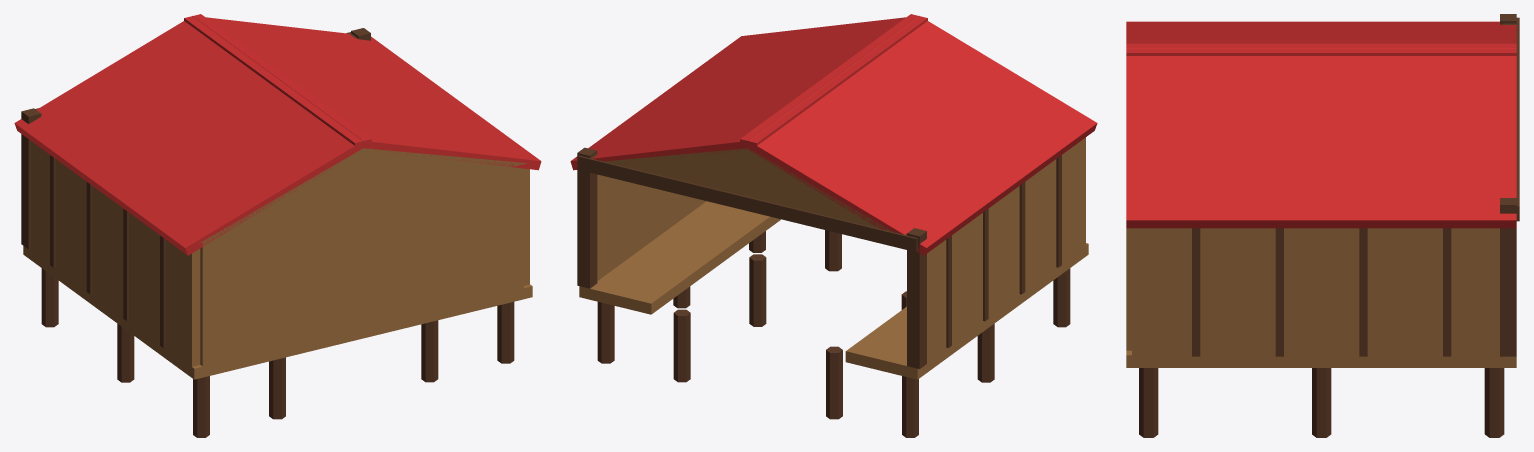
The model's file is BOATHOUSE.glb.
3 renders of one model, left to right at view 1: azimuth 30°, elevation 25°; view 2: azimuth 150°, elevation 25°; view 3: azimuth 270°, elevation 25°, orthographic. The views are drawn at different scales.
Parts seen in each view (by area): view 1: Wood, PropRed, WoodDark; view 2: PropRed, Wood, WoodDark; view 3: PropRed, Wood, WoodDark.
Part boxes in pixels (x1,y1,x2,y2): Wood: [23, 141, 532, 379]; PropRed: [14, 14, 541, 255]; WoodDark: [21, 28, 514, 437]; PropRed: [570, 14, 1097, 255]; Wood: [579, 137, 1088, 379]; WoodDark: [577, 147, 1070, 437]; PropRed: [1126, 21, 1516, 228]; Wood: [1126, 228, 1516, 367]; WoodDark: [1139, 14, 1519, 437].
Size of the model in its own units: 16.85 by 11.93 by 14.1.
